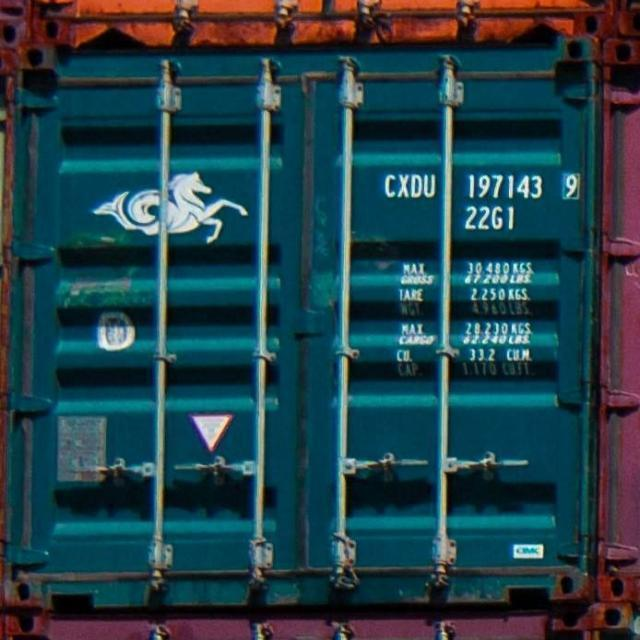ISO: (464, 205, 516, 232)
container_number: (383, 169, 576, 201)
